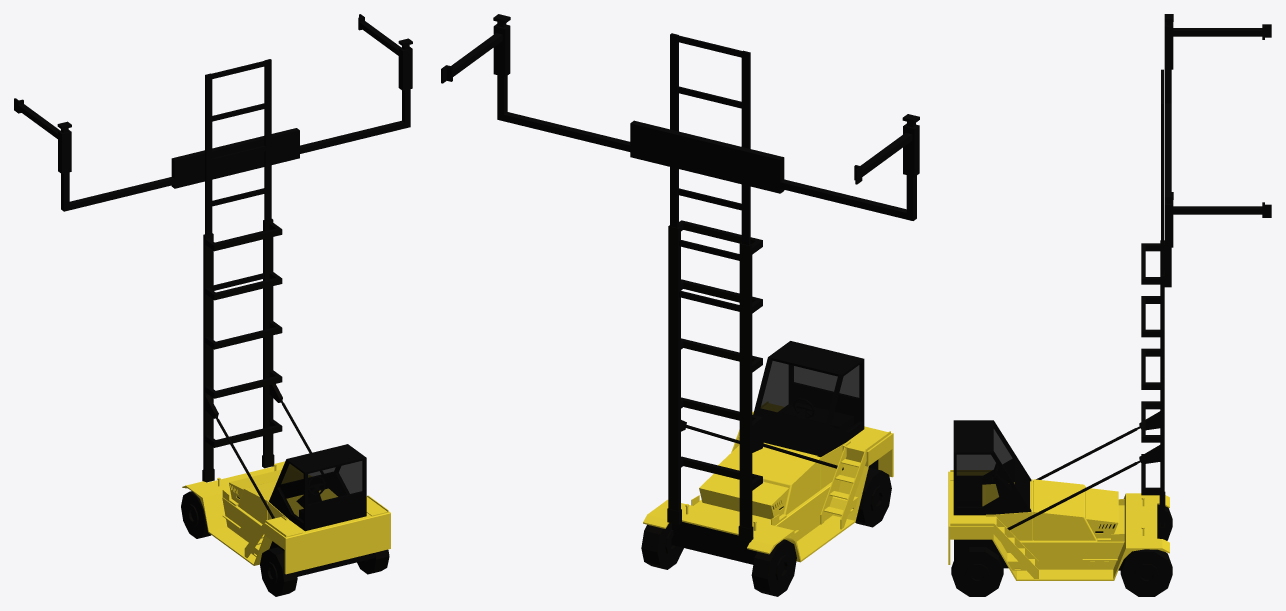
The model's file is 4、空箱推高机.fbx.
3 views of the same model, side by side, from view 1: azimuth 30°, elevation 25°; view 2: azimuth 150°, elevation 25°; view 3: azimuth 270°, elevation 25° (orthographic). The views are drawn at different scales.
Visible parts, largest first — view 1: 物件_40, 物件_32, 物件_30, 物件_39, 物件_31, 物件_35, 物件_37, 物件_16, 物件_38, 物件_34; view 2: 物件_40, 物件_30, 物件_32, 物件_39, 物件_31, 物件_36, 物件_33, 物件_37, 物件_38, 物件_35, 物件_8, 物件_11 (+4 smaller); view 3: 物件_40, 物件_32, 物件_30, 物件_39, 物件_38, 物件_18, 物件_10, 物件_37, 物件_1, 物件_19, 物件_11, 物件_36 (+2 smaller).
Boxes of the visible parts, x1,y1,x2,y2 form: 物件_40: (182,461,390,574); 物件_32: (202,219,323,518); 物件_30: (14,14,412,211); 物件_39: (269,444,366,531); 物件_31: (205,59,271,290); 物件_35: (308,460,363,504); 物件_37: (278,463,303,521); 物件_16: (260,547,297,596); 物件_38: (337,461,361,493); 物件_34: (269,541,374,576); 物件_40: (643,402,893,562); 物件_30: (441,14,919,220); 物件_32: (667,220,843,542); 物件_39: (752,341,864,457); 物件_31: (670,33,750,311); 物件_36: (759,360,837,423); 物件_33: (671,522,756,564); 物件_37: (831,364,861,432); 物件_38: (761,361,790,412); 物件_35: (794,366,858,397); 物件_8: (751,539,796,596); 物件_11: (641,524,683,569); 物件_40: (948,470,1169,580); 物件_32: (1007,240,1165,539); 物件_30: (1164,14,1271,287); 物件_39: (953,420,1031,515); 物件_38: (956,454,1012,507); 物件_18: (954,554,1000,594); 物件_10: (1123,554,1169,594); 物件_37: (957,430,1012,475); 物件_1: (957,476,981,505); 物件_19: (951,547,1003,596); 物件_11: (1120,549,1172,596); 物件_36: (993,425,1015,484).
Bounding box in the file's own units: 1333 × 994 × 1636.
